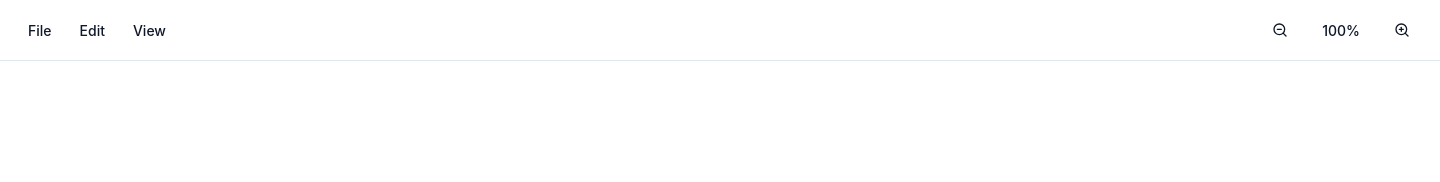
Test: TopToolbar › should show toggle options in View menu
The width and height of the screenshot is (1440, 182).
Step 1. Click the button "View" → (149, 30), box [121,12,178,48]
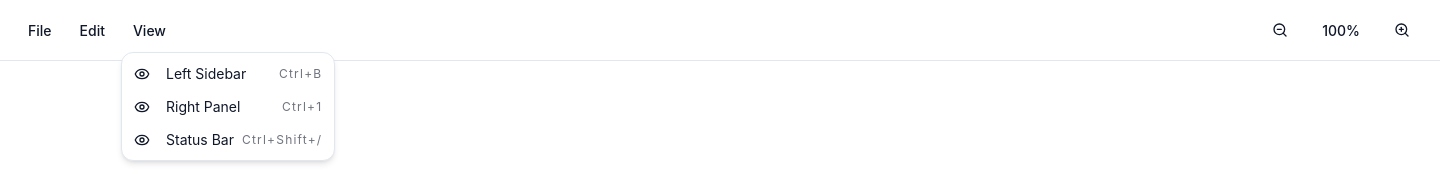
Expected: the menu item "Left Sidebar Ctrl+B" is shown, [134,65,322,82]
Expected: the menu item "Right Panel Ctrl+1" is shown, [134,98,322,115]
Expected: the menu item "Status Bar Ctrl+Shift+/" is shown, [134,131,322,148]
